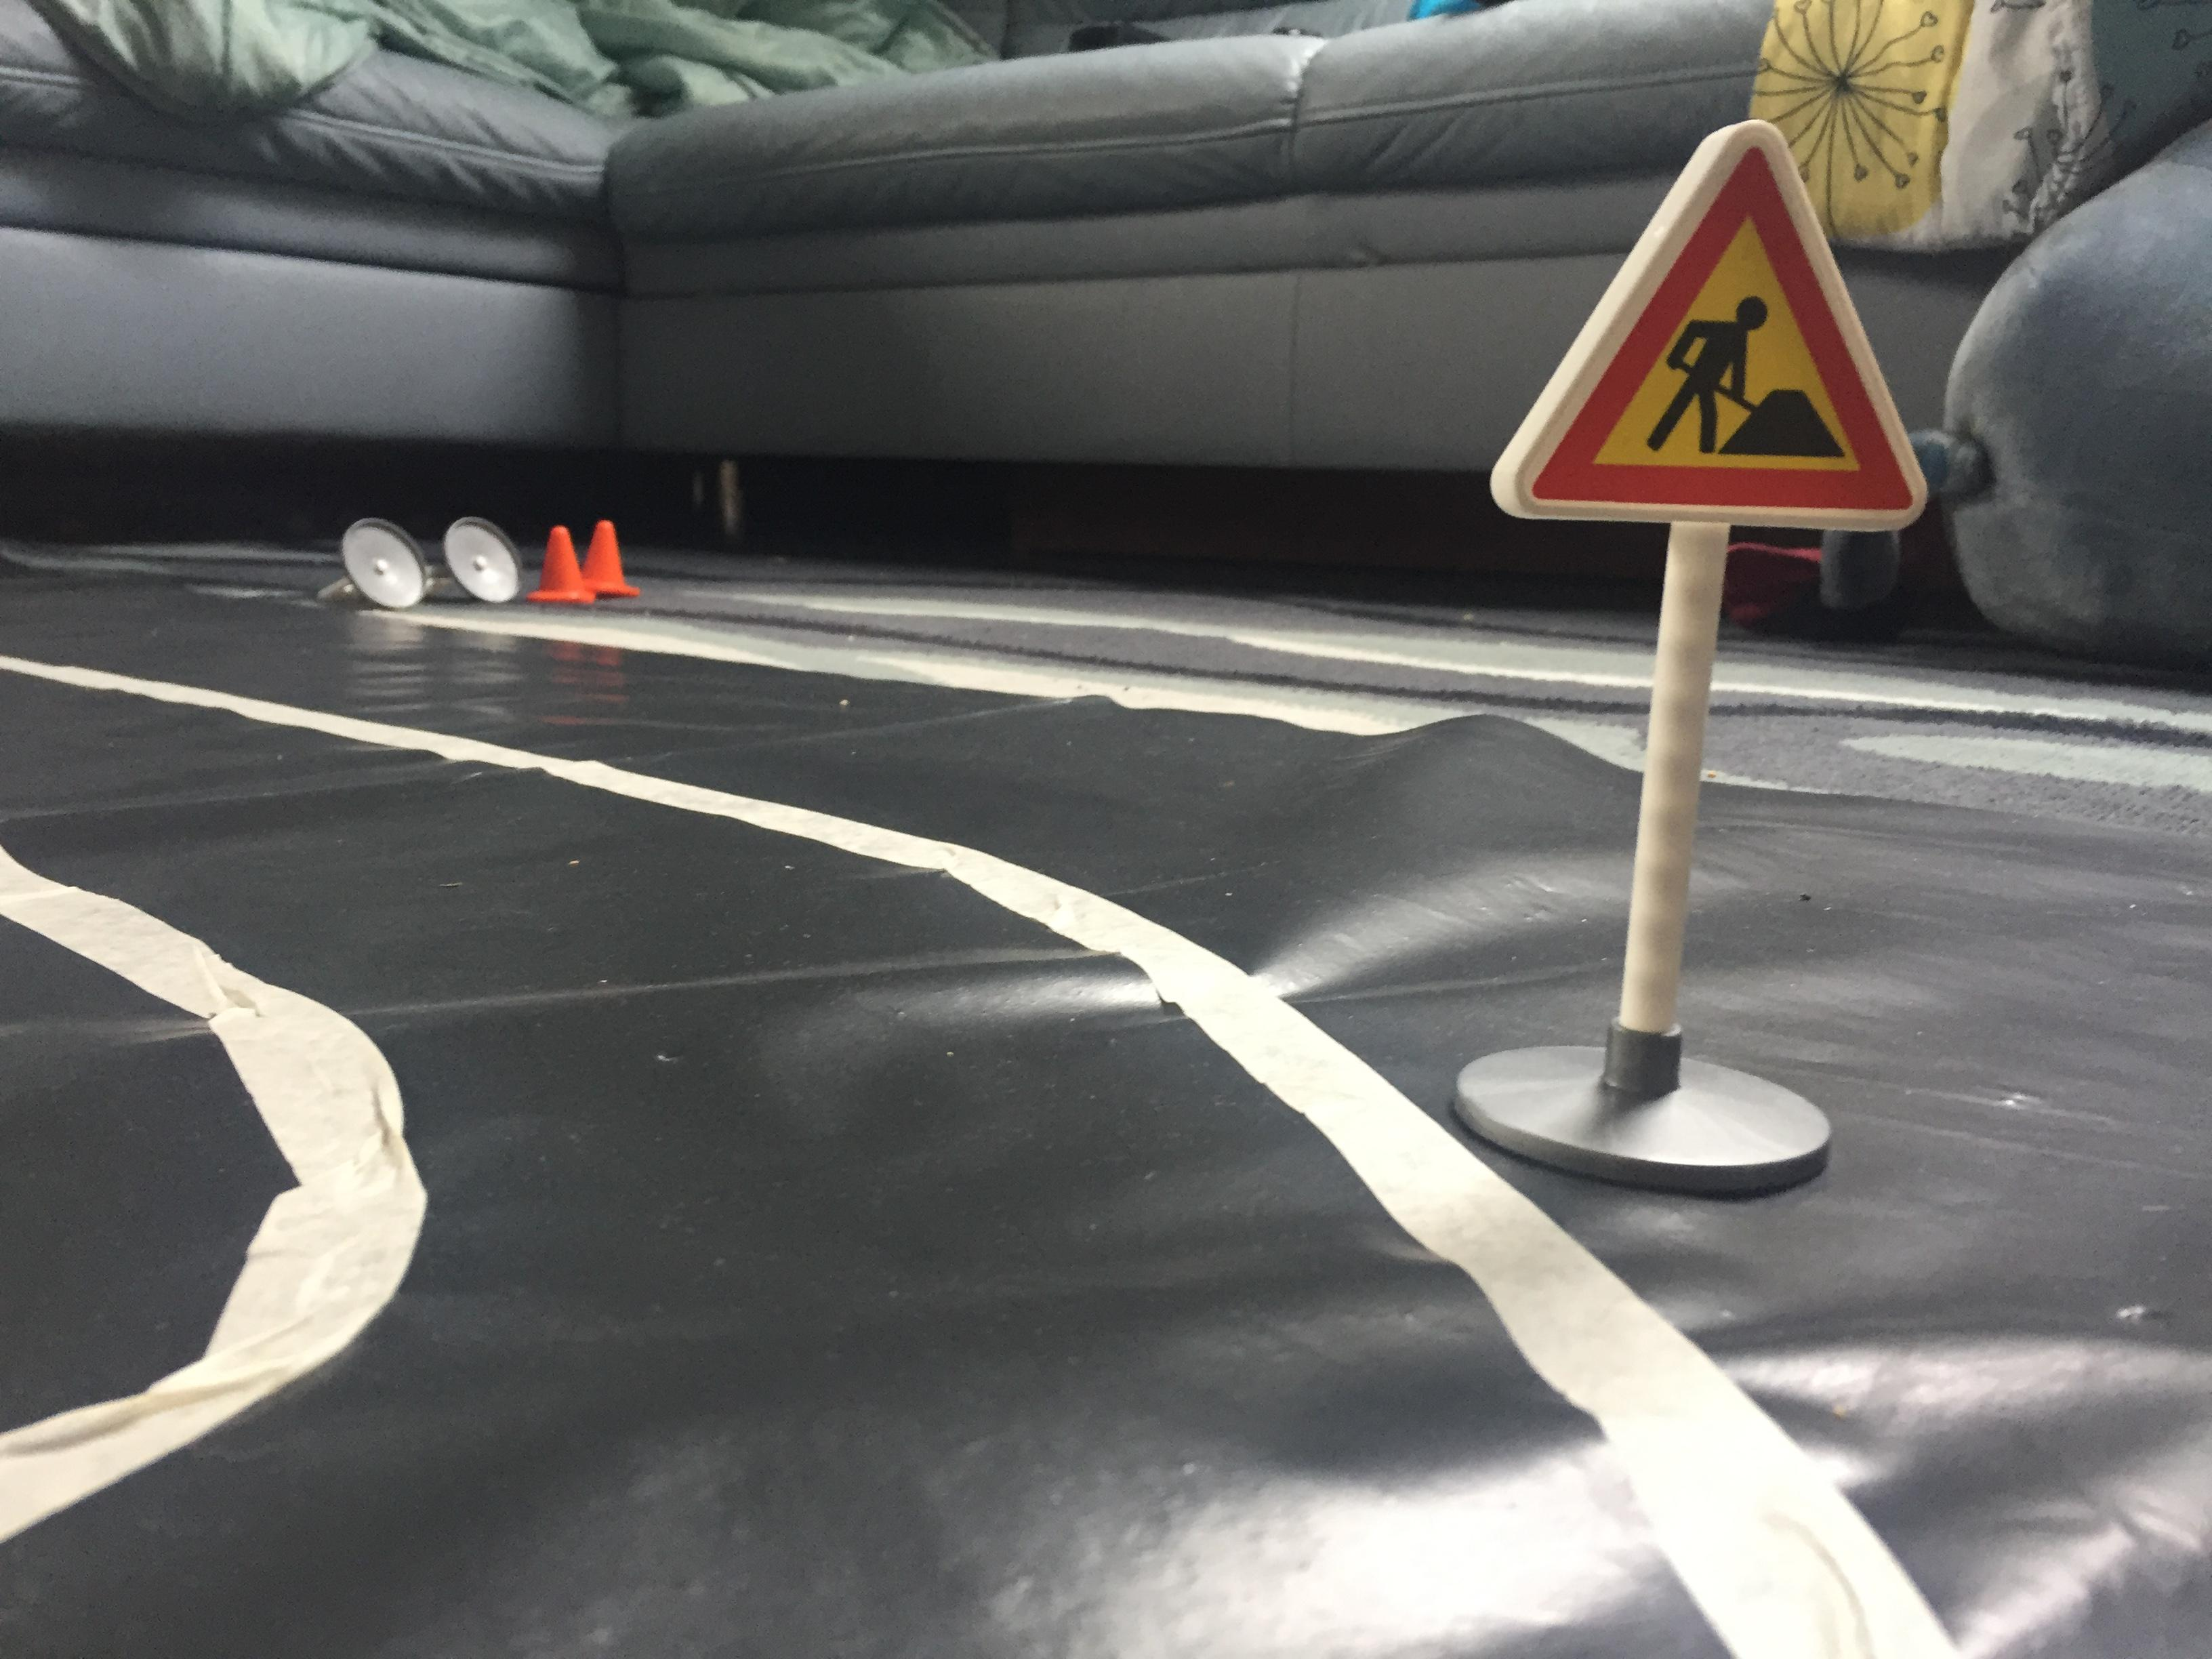work: (1480, 112, 1939, 552)
